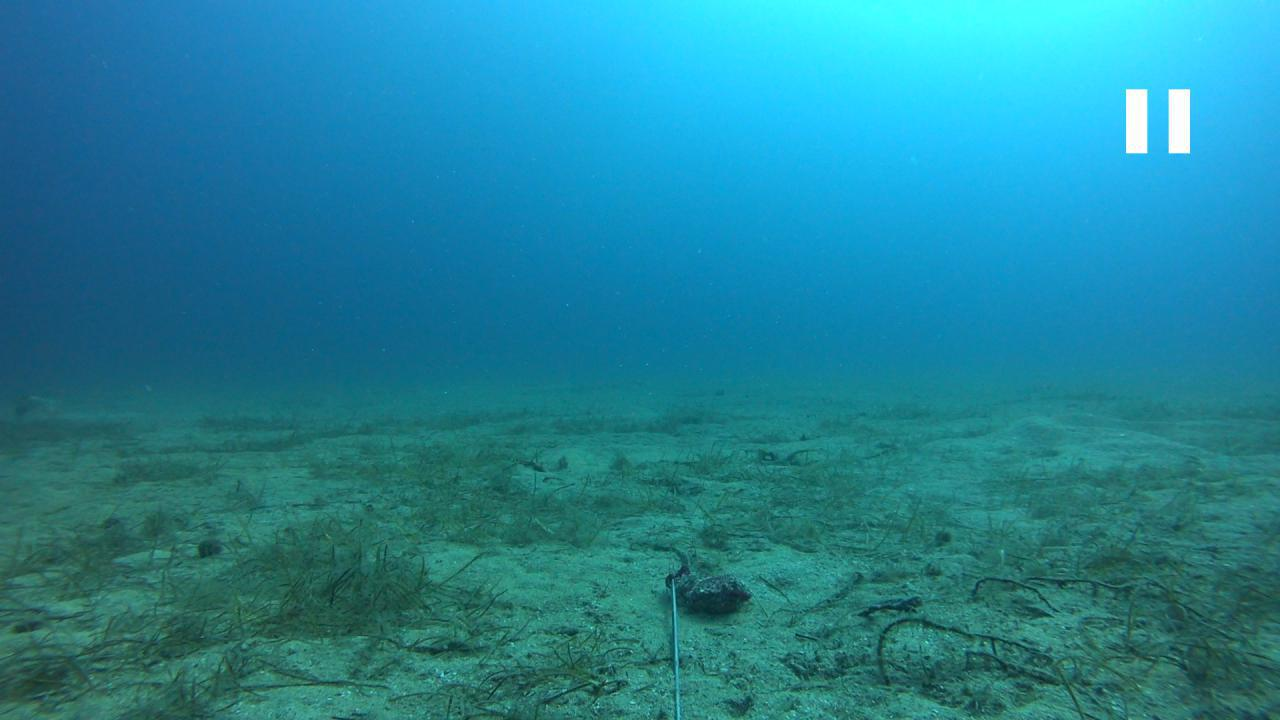dasyatis: (12, 392, 88, 418)
